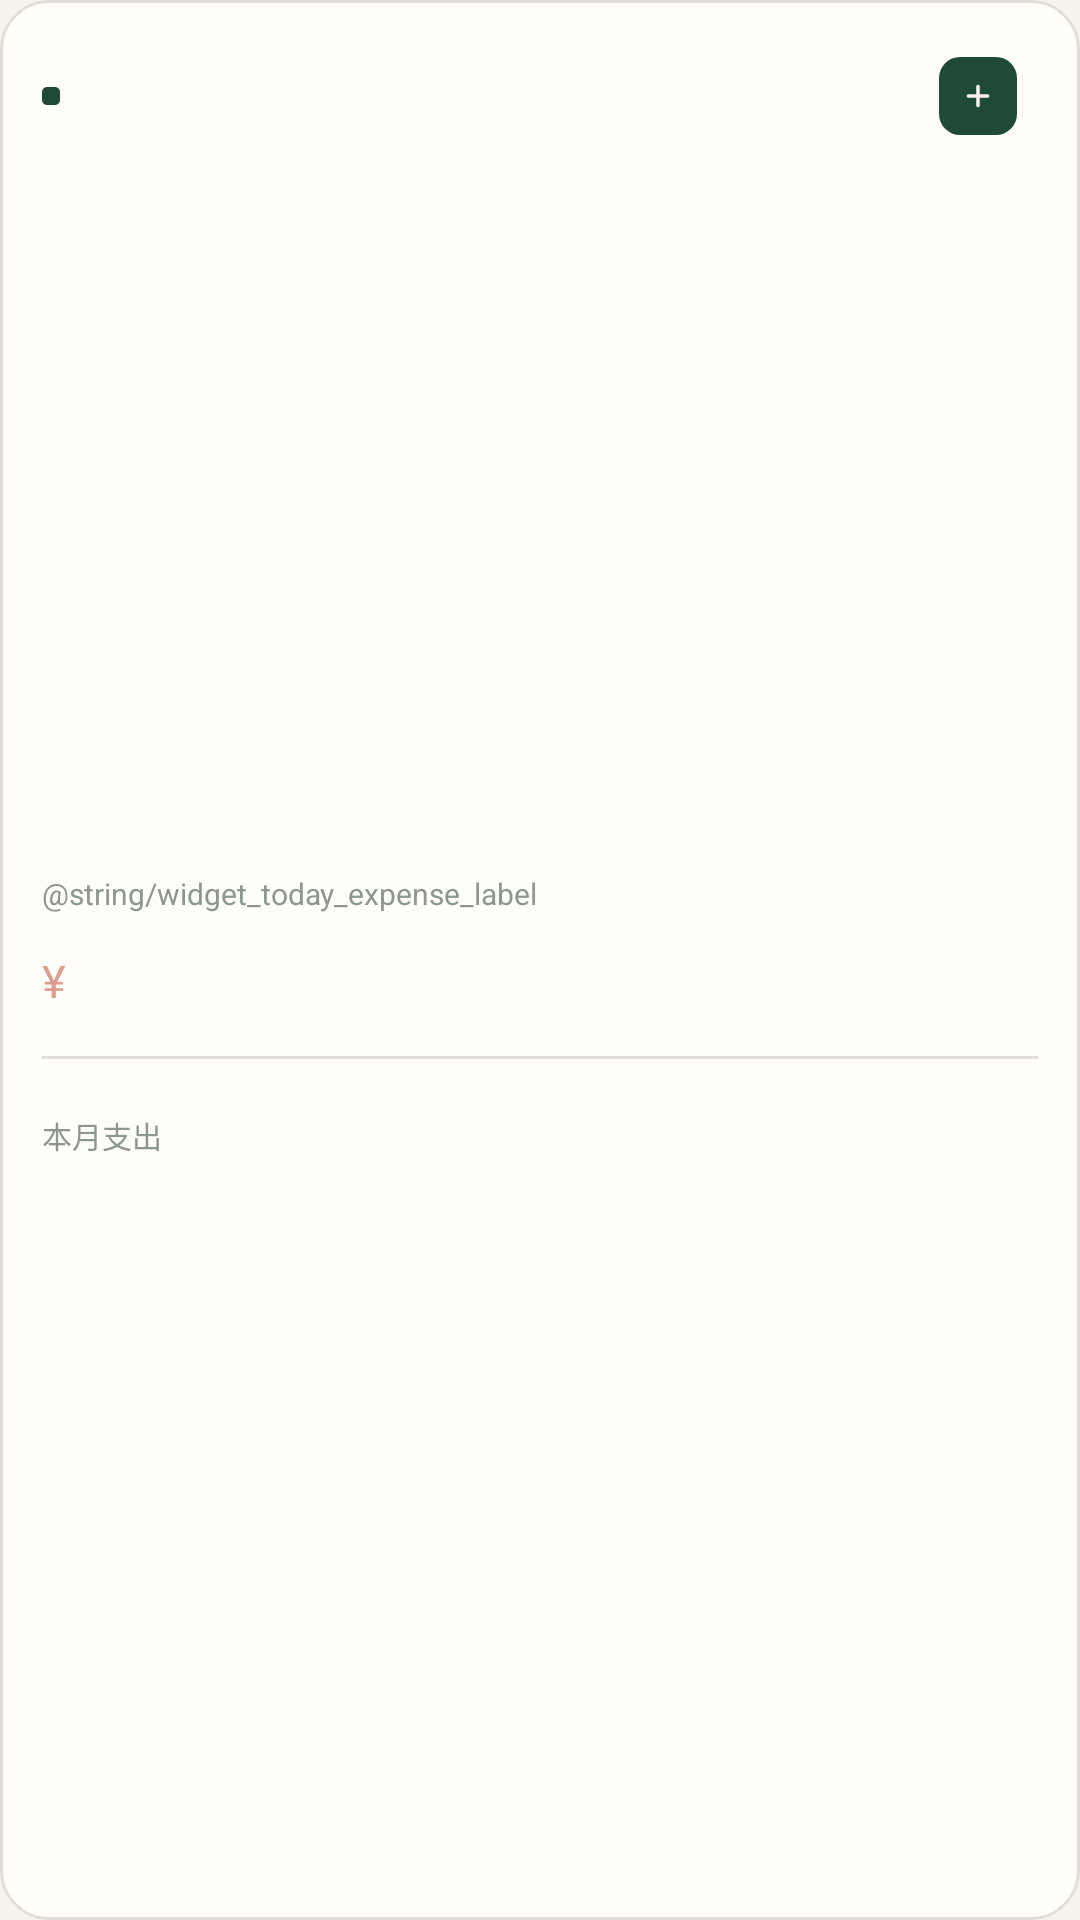

Icons on this 1080px x 1920px Android screen, each with the point to tap as point (x, y):
记一笔: point (978, 96)
